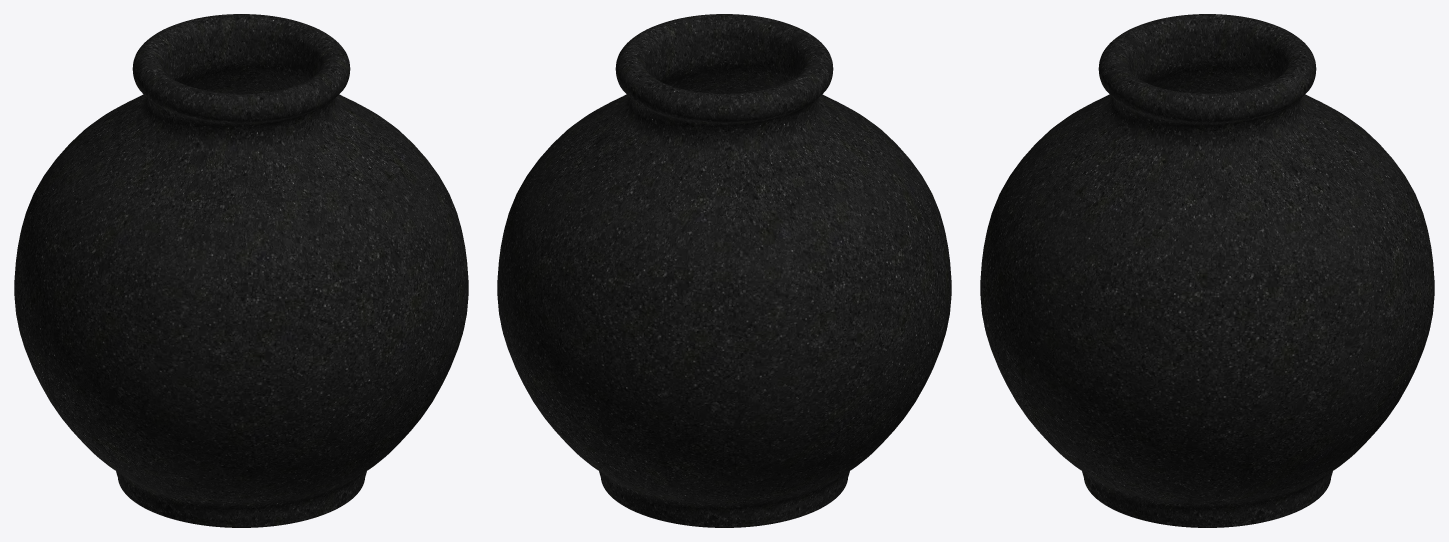
File: vase-large-black.glb
3 renders of one model, left to right at view 1: azimuth 30°, elevation 25°; view 2: azimuth 150°, elevation 25°; view 3: azimuth 270°, elevation 25°, orthographic.
Parts seen in each view (by area): view 1: vase-large-black; view 2: vase-large-black; view 3: vase-large-black.
Boxes of the visible parts, <box> form: vase-large-black: <box>14,14,468,527</box>; vase-large-black: <box>497,14,951,527</box>; vase-large-black: <box>980,14,1434,527</box>.
Size of the model in its own units: 0.0321 by 0.033 by 0.0321.
Materials: 1 (1 with a texture image).
